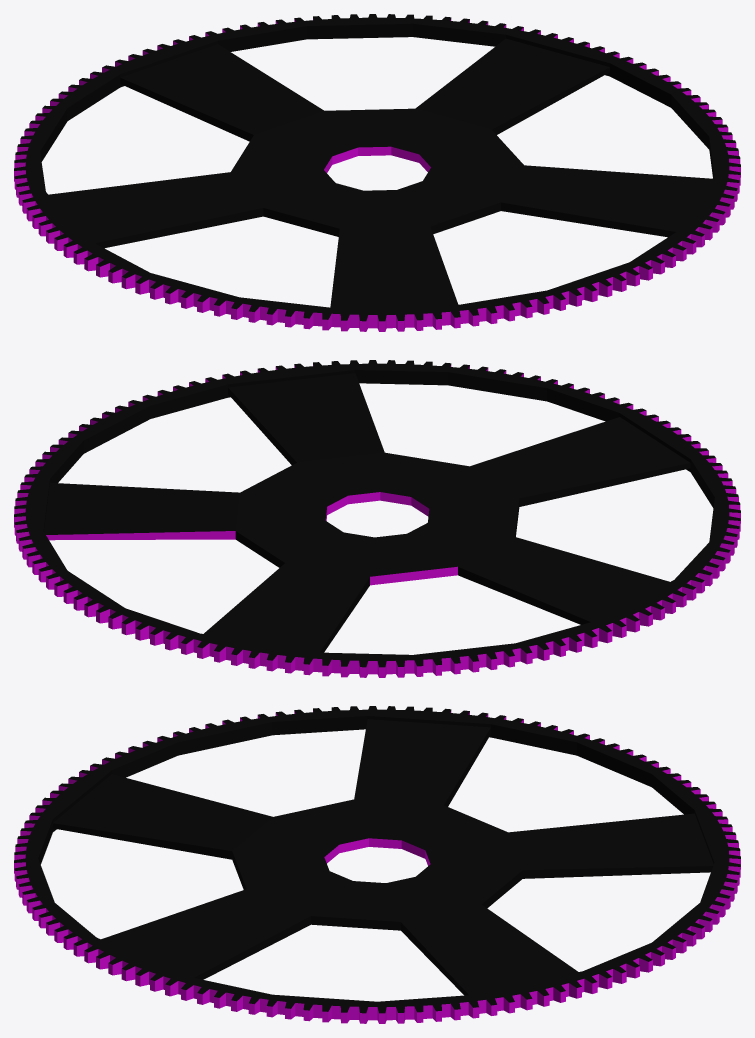
The model's file is D12GearV2.fbx.
3 renders of one model, top to bottom at view 1: azimuth 30°, elevation 25°; view 2: azimuth 150°, elevation 25°; view 3: azimuth 270°, elevation 25°, orthographic.
Parts seen in each view (by area): view 1: D12GearV2; view 2: D12GearV2; view 3: D12GearV2.
Boxes of the visible parts, x1,y1,x2,y2 form: D12GearV2: (14, 14, 740, 331); D12GearV2: (14, 360, 740, 677); D12GearV2: (14, 706, 740, 1023).
Size of the model in its own units: 24.8 by 0.5 by 24.8.
